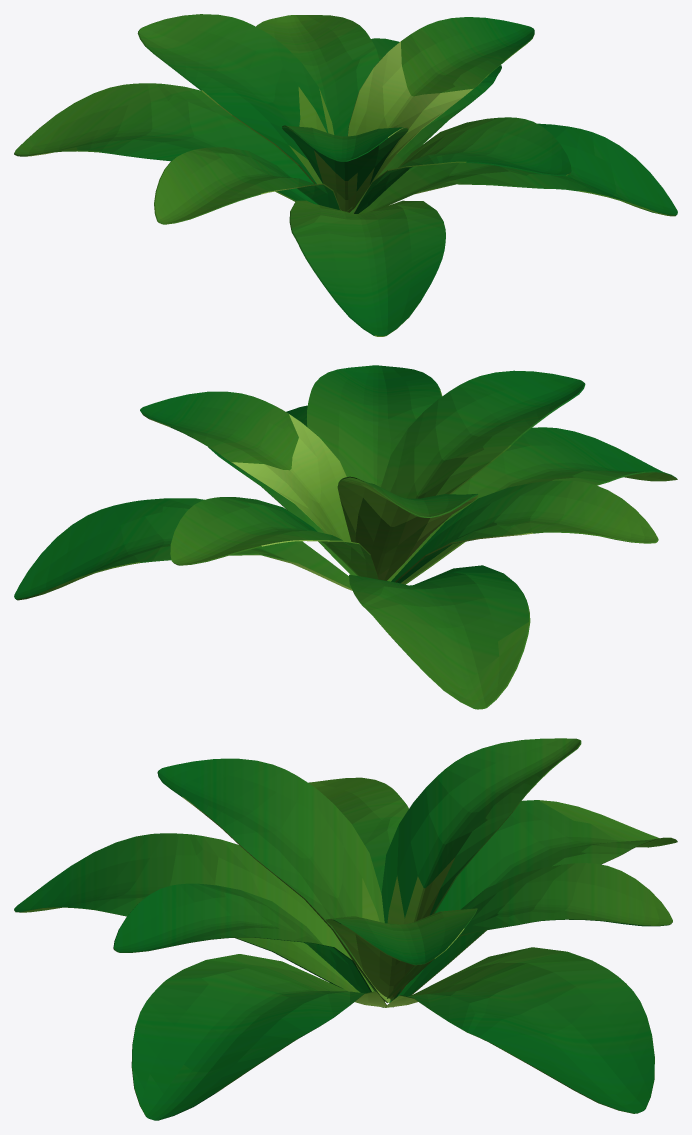
The model's file is planta.obj.
3 views of the same model, one above another, from view 1: azimuth 30°, elevation 25°; view 2: azimuth 150°, elevation 25°; view 3: azimuth 270°, elevation 25° (orthographic). The views are drawn at different scales.
Visible parts, largest first — view 1: polySurface670; view 2: polySurface670; view 3: polySurface670.
Boxes of the visible parts, bbox=[...] form: polySurface670: bbox=[14, 14, 677, 336]; polySurface670: bbox=[14, 365, 677, 709]; polySurface670: bbox=[14, 738, 677, 1120].
Bounding box in the file's own units: 0.9404 × 0.3352 × 0.9788.
1 material, 1 textured.
